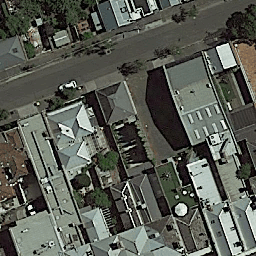car: (57, 79, 78, 94)
